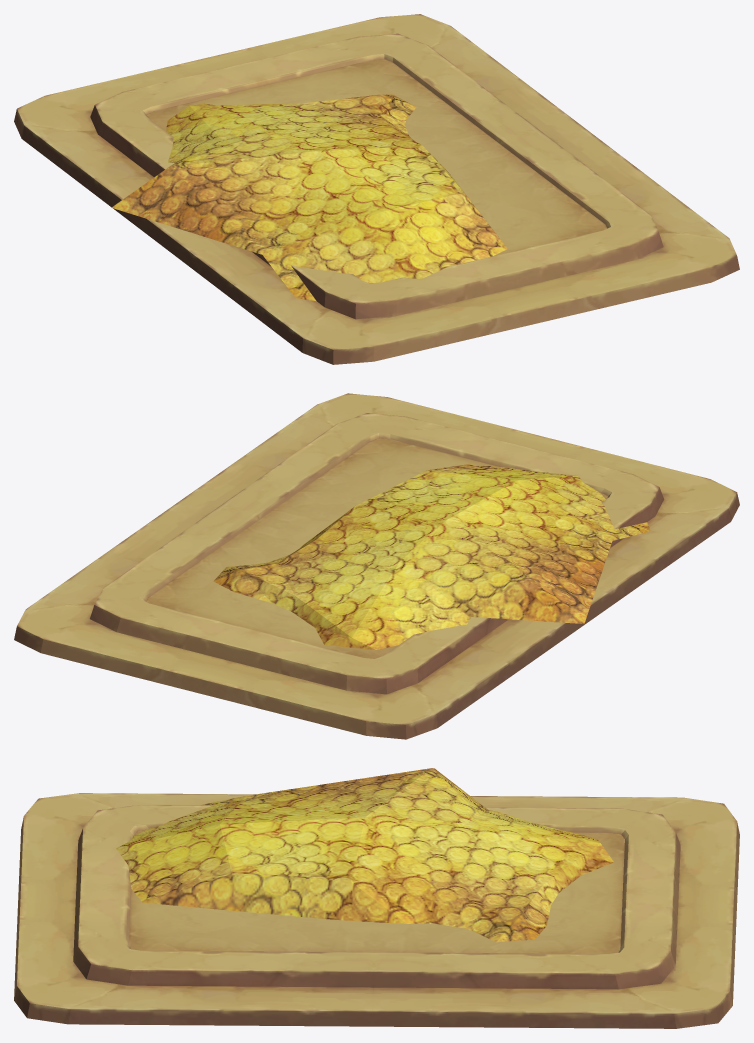
The model's file is Area_06_32.fbx.
The picture shows the model from 3 angles, top to bottom: view 1: azimuth 30°, elevation 25°; view 2: azimuth 150°, elevation 25°; view 3: azimuth 270°, elevation 25°; orthographic projection. The views are drawn at different scales.
Visible parts, largest first — view 1: Area_06_32; view 2: Area_06_32; view 3: Area_06_32.
Part boxes in pixels (left/top/right/bottom): Area_06_32: left=14, top=14, right=739, bottom=364; Area_06_32: left=14, top=393, right=739, bottom=739; Area_06_32: left=14, top=768, right=739, bottom=1028.
Size of the model in its own units: 367 by 49.43 by 482.
